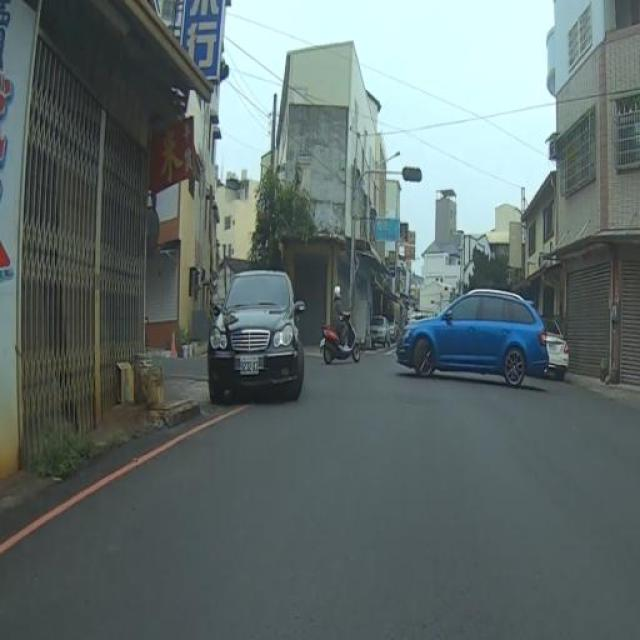illegalparking: (192, 258, 327, 425)
